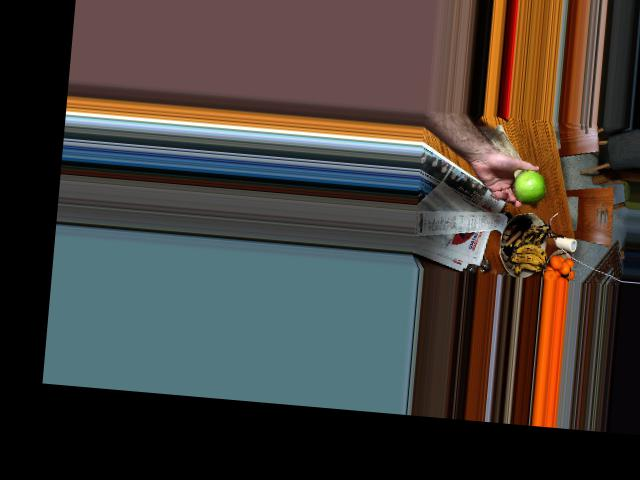apple: (511, 170, 549, 206)
